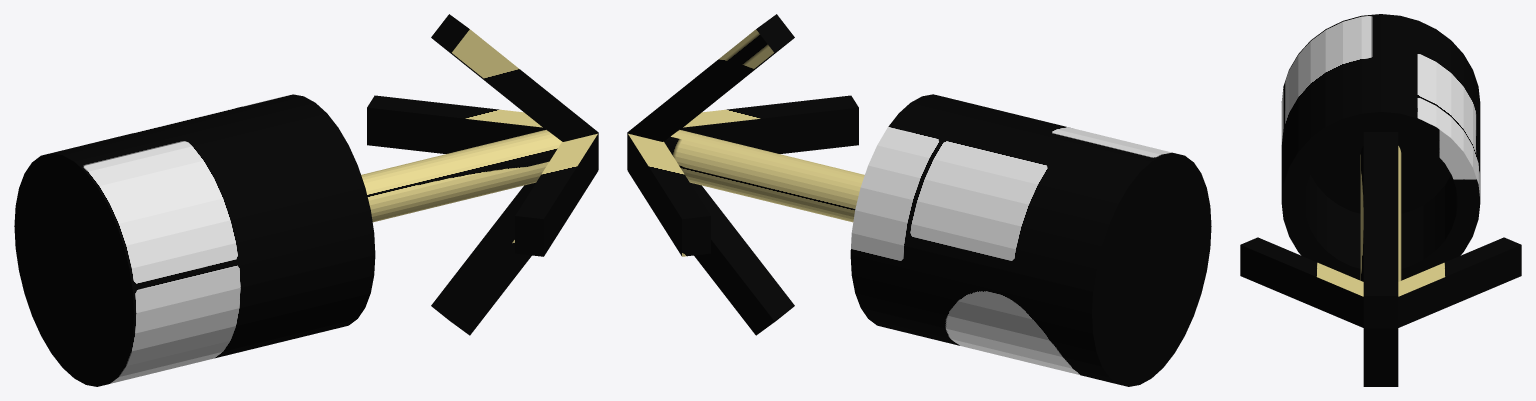
Rendered from Gun.fbx.
3 views of the same model, side by side, from view 1: azimuth 30°, elevation 25°; view 2: azimuth 150°, elevation 25°; view 3: azimuth 270°, elevation 25° (orthographic). The views are drawn at different scales.
Parts seen in each view (by area): view 1: Cannon, Hook; view 2: Cannon, Hook; view 3: Cannon, Hook.
Boxes of the visible parts, left/top/right/bottom form: Cannon: left=14, top=94, right=375, bottom=386; Hook: left=361, top=14, right=598, bottom=335; Cannon: left=850, top=94, right=1211, bottom=386; Hook: left=627, top=14, right=864, bottom=335; Cannon: left=1281, top=14, right=1480, bottom=280; Hook: left=1240, top=132, right=1521, bottom=386.
Size of the model in its own units: 496 by 283 by 283.
